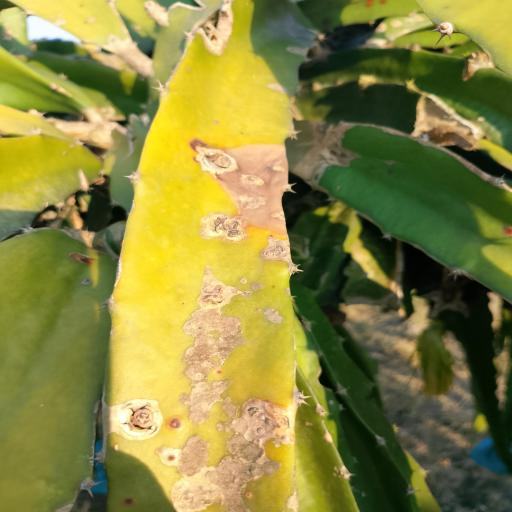stemcanker: (108, 442, 122, 451), (214, 370, 225, 376), (246, 490, 254, 498)
